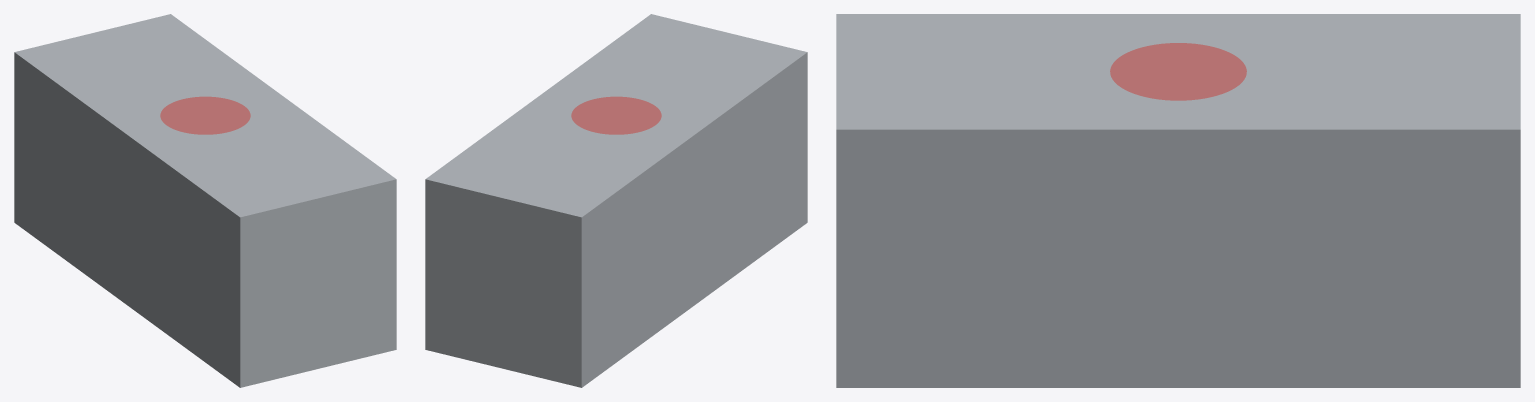
The model's file is step_02.glb.
3 views of the same model, side by side, from view 1: azimuth 30°, elevation 25°; view 2: azimuth 150°, elevation 25°; view 3: azimuth 270°, elevation 25° (orthographic). The views are drawn at different scales.
Visible parts, largest first — view 1: part__track fitting, removed__track fitting; view 2: part__track fitting, removed__track fitting; view 3: part__track fitting, removed__track fitting.
Part boxes in pixels (box(x1,y1,x2,y2)): part__track fitting: box(14, 14, 396, 387); removed__track fitting: box(160, 96, 250, 134); part__track fitting: box(425, 14, 807, 387); removed__track fitting: box(571, 96, 661, 134); part__track fitting: box(836, 14, 1520, 387); removed__track fitting: box(1110, 43, 1246, 100).
Size of the model in its own units: 24 by 25 by 60.
